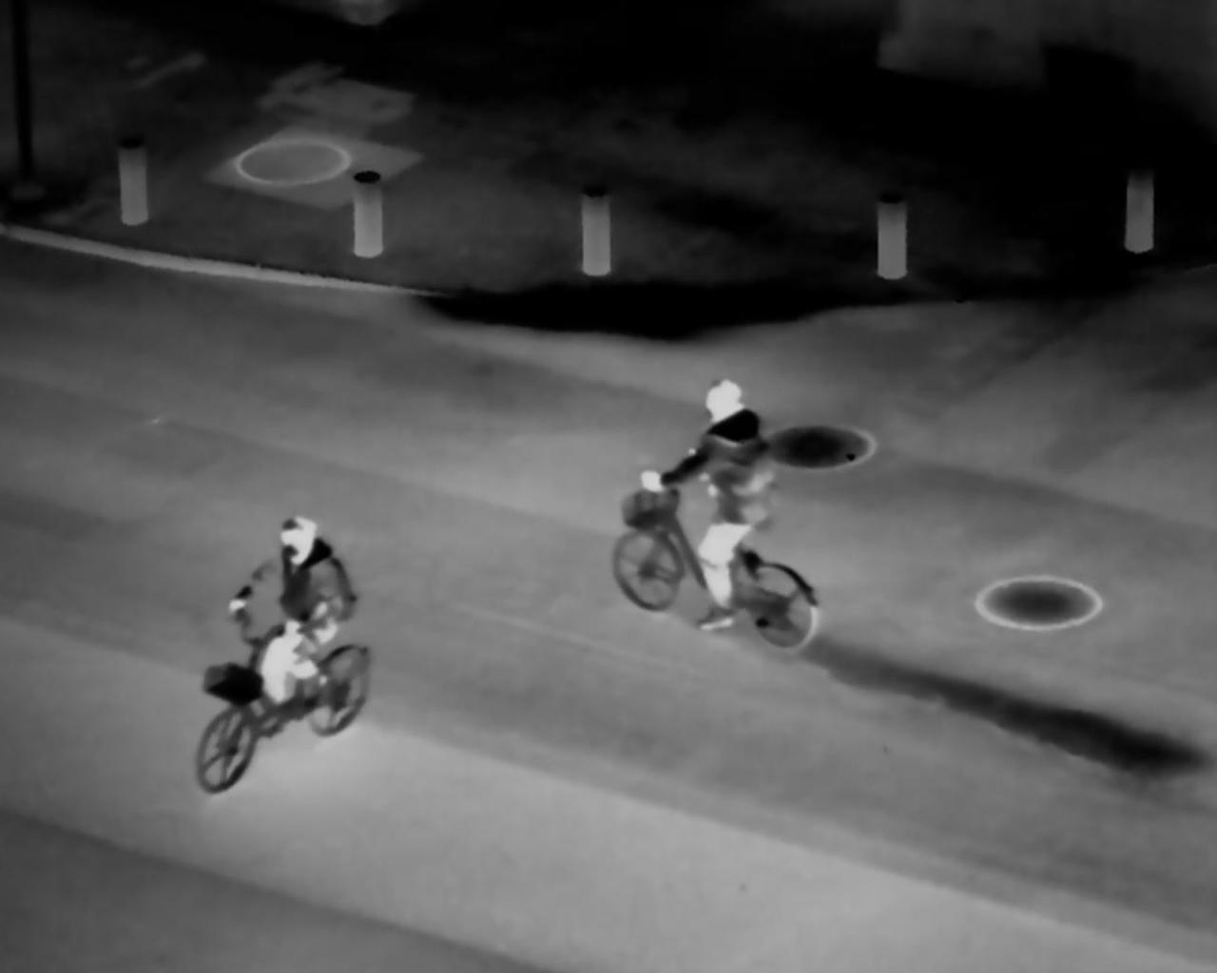person: (645, 369, 781, 644), (224, 508, 357, 739)
